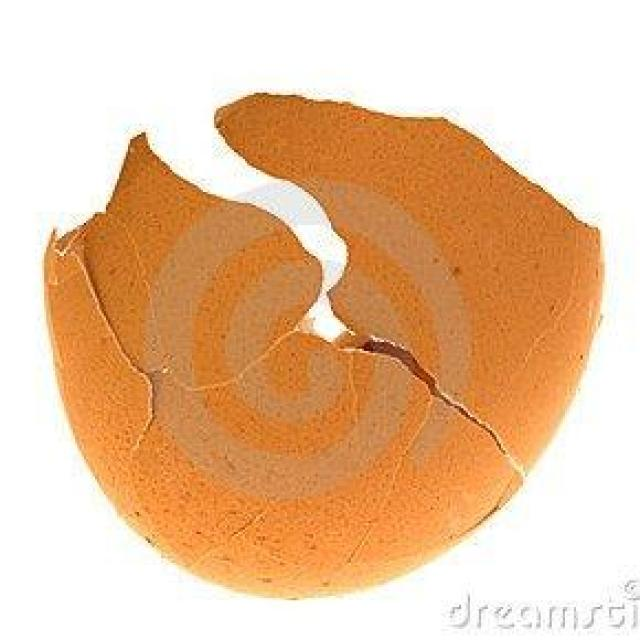organic: (44, 95, 602, 600)
